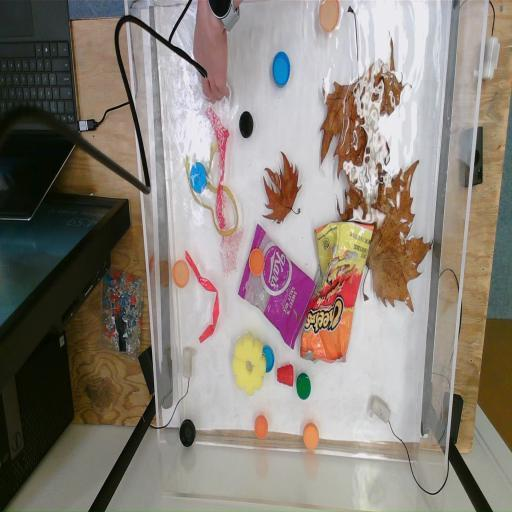Bottle Cap: (318, 0, 340, 32), (176, 416, 196, 448), (272, 52, 290, 86), (190, 161, 208, 193), (172, 260, 189, 289), (248, 248, 264, 276), (238, 110, 254, 138), (302, 423, 318, 450), (296, 373, 311, 400), (254, 414, 268, 440), (262, 346, 275, 372)
Cone Cap: (276, 362, 294, 392)
Leaf: (336, 165, 432, 313), (316, 48, 412, 168), (264, 146, 302, 226)
Netting: (200, 107, 231, 236), (218, 228, 242, 278)
Plastic Bag: (298, 222, 376, 362), (238, 224, 316, 349)
Plastic Strand: (182, 136, 242, 236), (184, 248, 220, 344)
Sponge: (233, 334, 266, 393)
